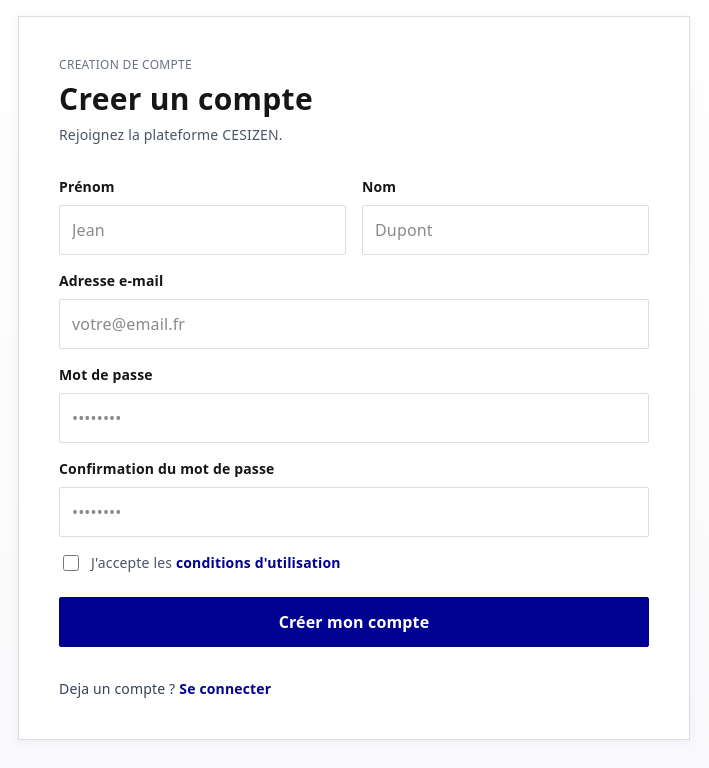
Test: Register page › prevents submit when terms are not accepted
Click the button "Créer mon compte".
click(354, 622)  # box [59, 597, 649, 647]
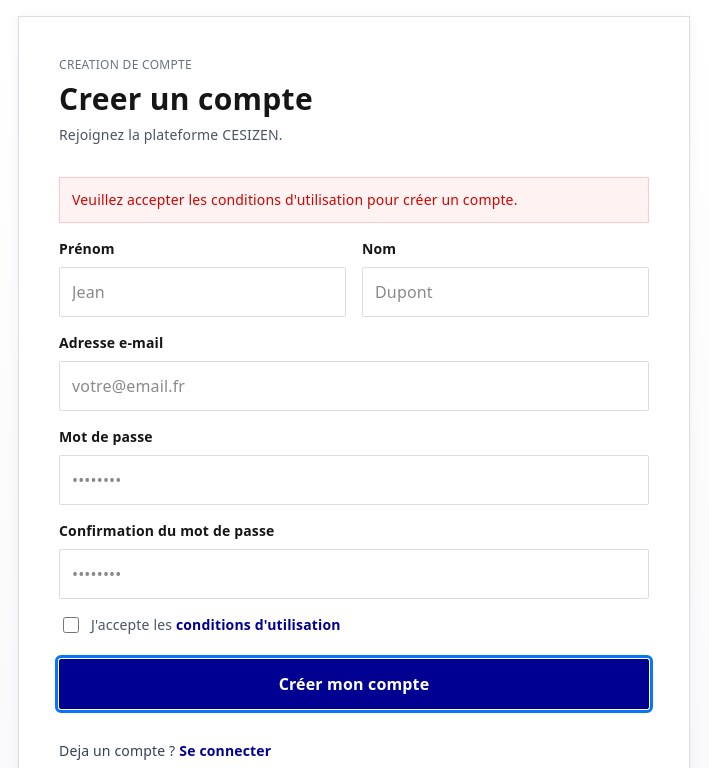
Expected: the text "Veuillez accepter les conditions d'utilisation" is shown, [72, 190, 518, 209]
